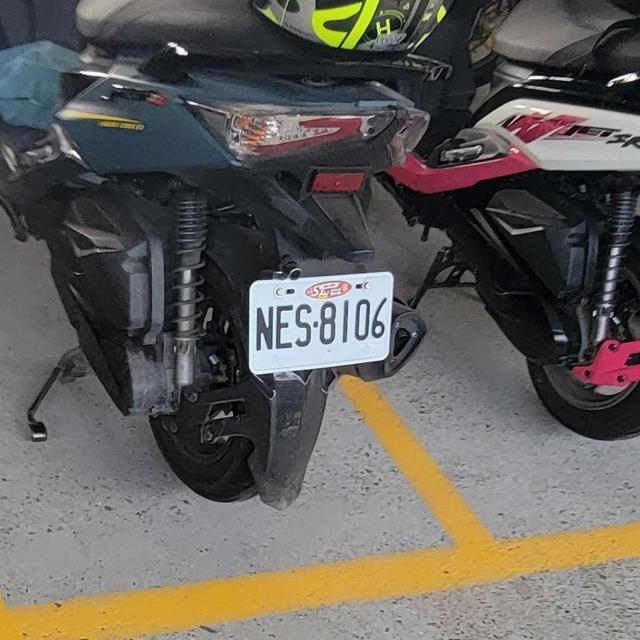W: (245, 268, 397, 375)
